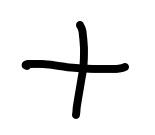plus: (22, 21, 129, 119)
